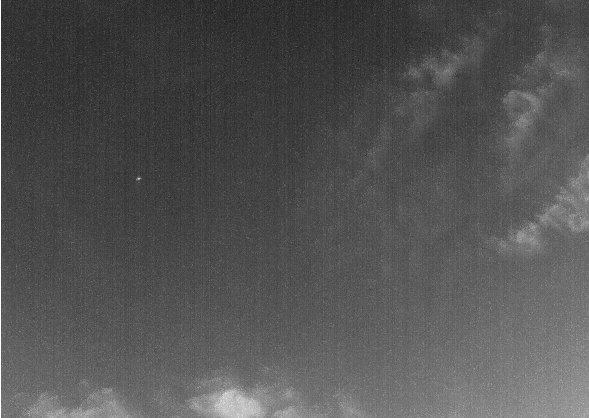dim target: (135, 176, 142, 181)
